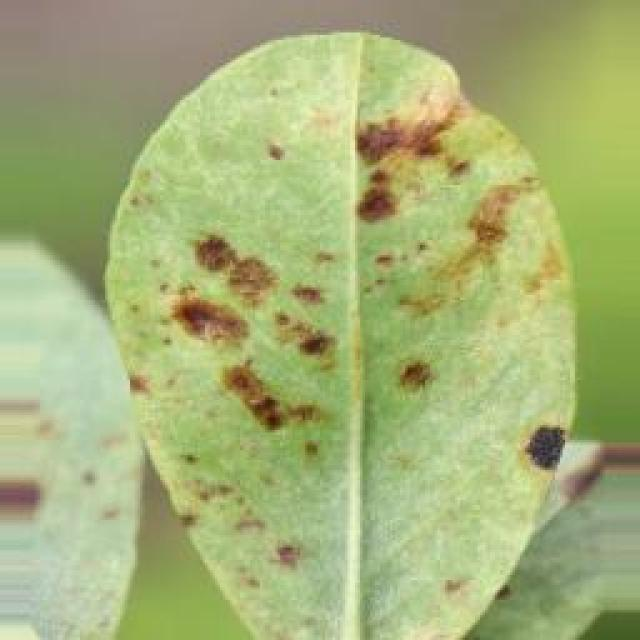Whitefly: (106, 61, 561, 640)
